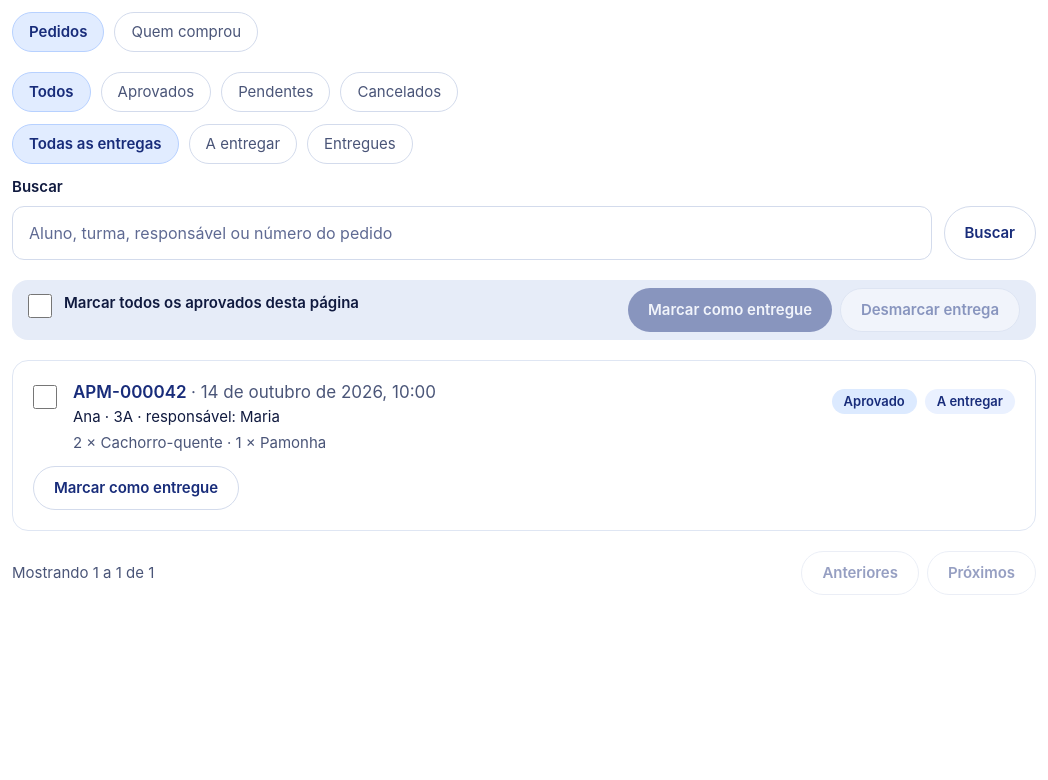
Test case: pedidos da campanha › marca a entrega de um pedido pela API e recarrega a lista e os numeros do resumo
The image size is (1048, 780).
Step 1. Click the button with aria-label "Marcar o pedido APM-000042 como entregue" → coordinates (136, 488), box 33,466 -> 239,510
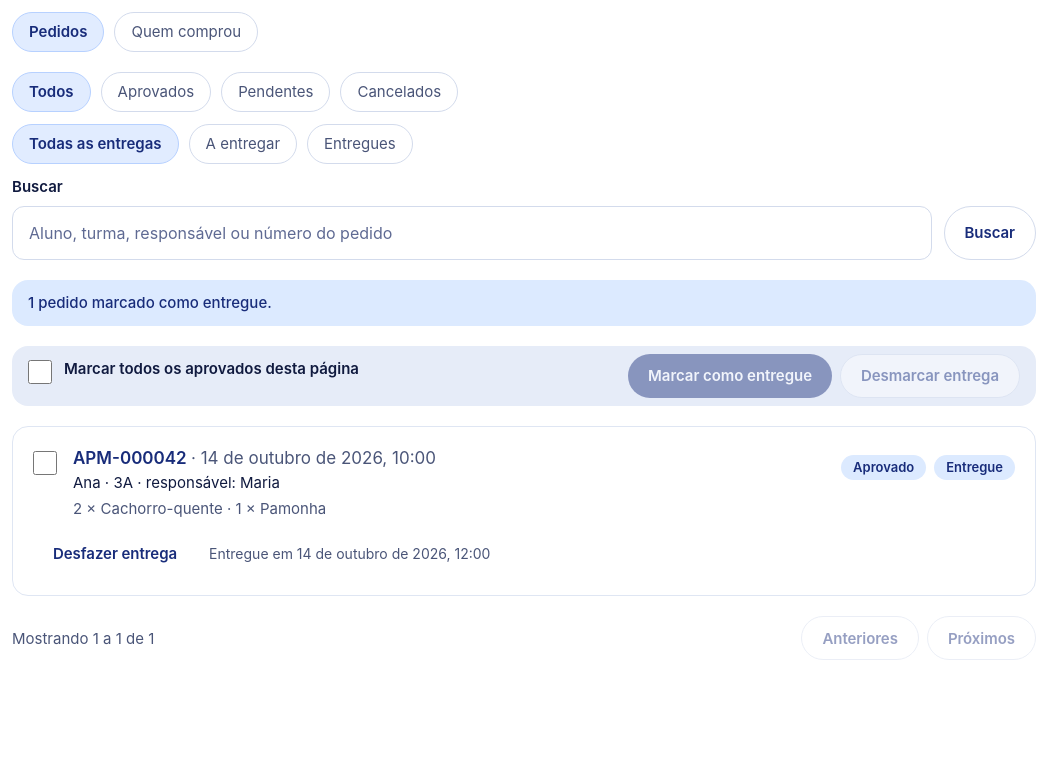
Result: the message shows "1 pedido marcado como entregue" at 28,293 -> 272,312
Result: the button with aria-label "Desfazer a entrega do pedido APM-000042" is shown at 33,531 -> 197,575
